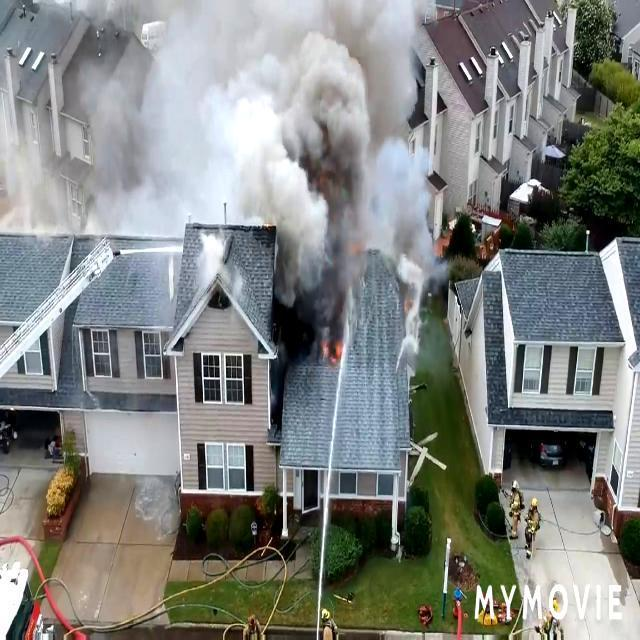Smoke: (110, 1, 434, 337)
